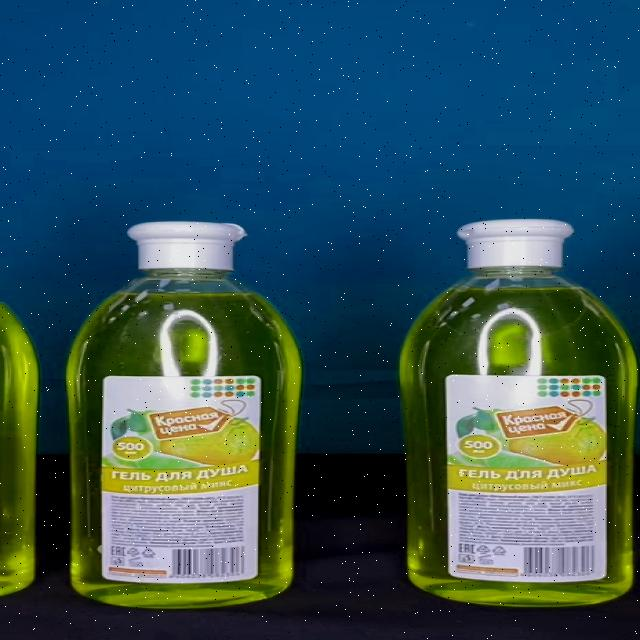Bottle: (398, 220, 640, 606), (64, 222, 303, 609)
Cap: (456, 220, 574, 270), (127, 223, 248, 271)
